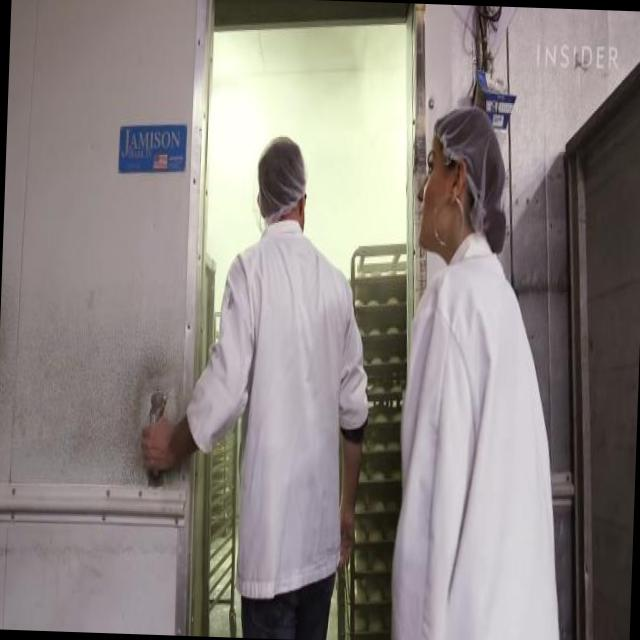hairnet: (434, 110, 508, 215), (253, 137, 305, 210)
